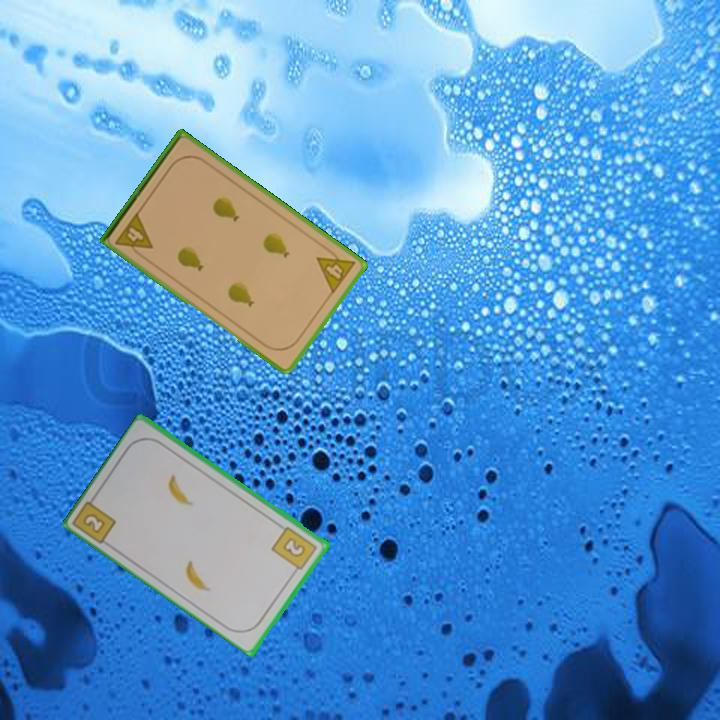2b: (269, 523, 320, 577), (72, 491, 120, 547)
4p: (313, 243, 358, 297), (111, 208, 156, 261)
